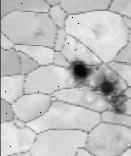good_void: (91, 74, 130, 118), (65, 60, 93, 91), (91, 17, 117, 42), (31, 22, 46, 42), (94, 64, 100, 73), (72, 48, 77, 53)
